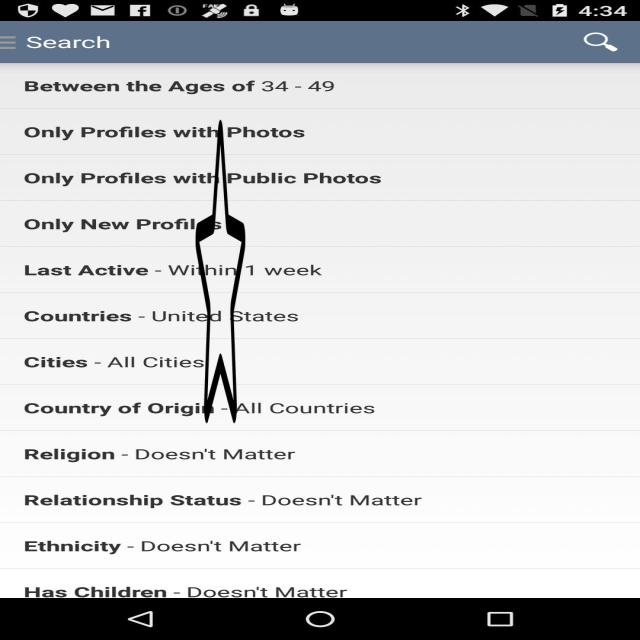forced continuity: (196, 113, 246, 430)
